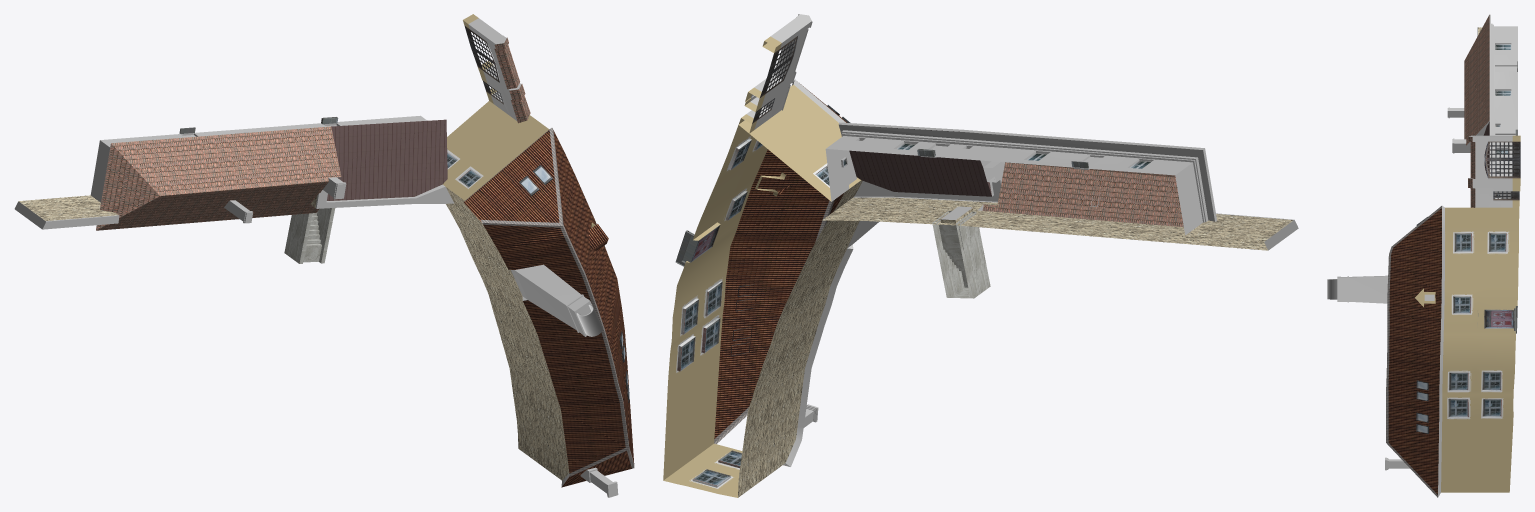
Rendered from Toom-Kooli_21_1.obj.
3 views of the same model, side by side, from view 1: azimuth 30°, elevation 25°; view 2: azimuth 150°, elevation 25°; view 3: azimuth 270°, elevation 25° (orthographic). The views are drawn at different scales.
Visible parts, largest first — view 1: Toom_Kooli_21_1; view 2: Toom_Kooli_21_1; view 3: Toom_Kooli_21_1.
Part boxes in pixels (x1,y1,x2,y2): Toom_Kooli_21_1: [14, 14, 634, 497]; Toom_Kooli_21_1: [663, 14, 1298, 497]; Toom_Kooli_21_1: [1327, 14, 1520, 497].
Size of the model in its own units: 42.41 by 31.57 by 17.06.
